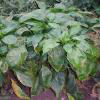Bell_pepper leaf spot: (6, 45, 28, 72), (68, 49, 86, 72), (13, 70, 34, 89), (46, 44, 68, 62), (38, 66, 53, 92), (75, 61, 93, 82), (30, 76, 43, 98), (87, 43, 100, 62), (49, 58, 65, 73)
